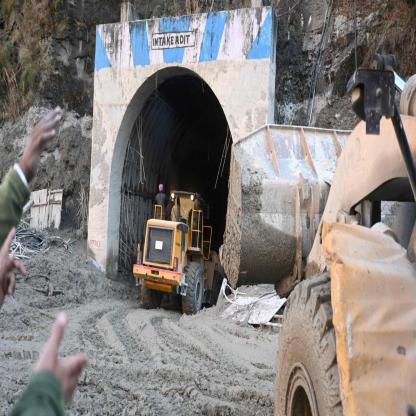bull_dozer/loader/grader: (215, 38, 416, 411), (131, 159, 226, 329)
person: (153, 179, 168, 222)
